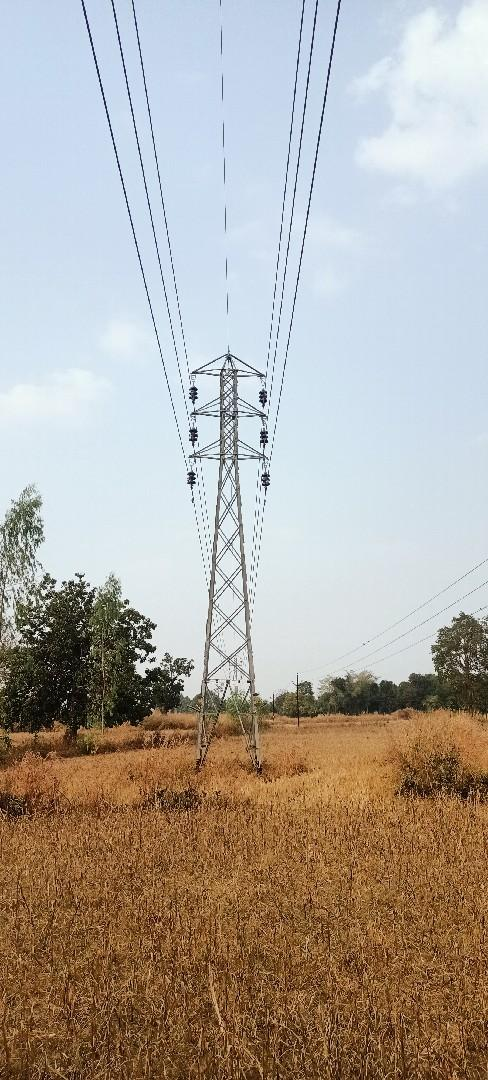GSM Antenna: (186, 348, 276, 750)
